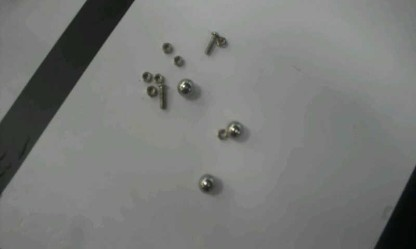ironball: (198, 174, 214, 192), (226, 120, 242, 137), (176, 78, 192, 95)
